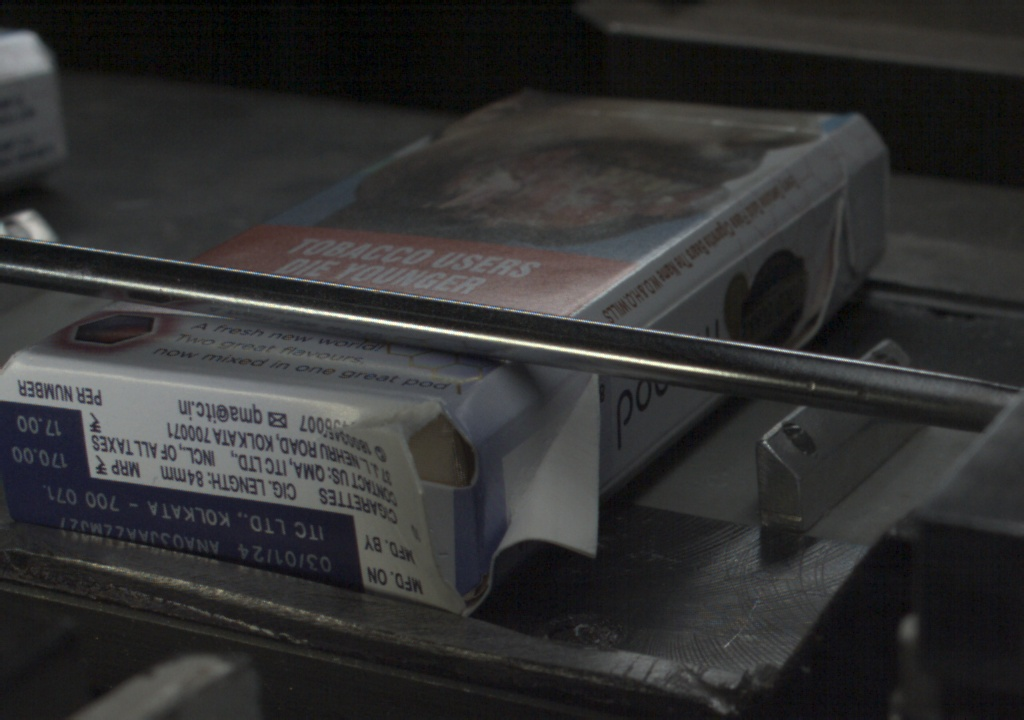g_label: (1, 477, 358, 590)
g_lmiter: (739, 188, 835, 258), (647, 258, 738, 326)
ng_bottom: (373, 406, 477, 614)
ng_lmiter: (485, 372, 605, 565)
price: (1, 408, 83, 477)
